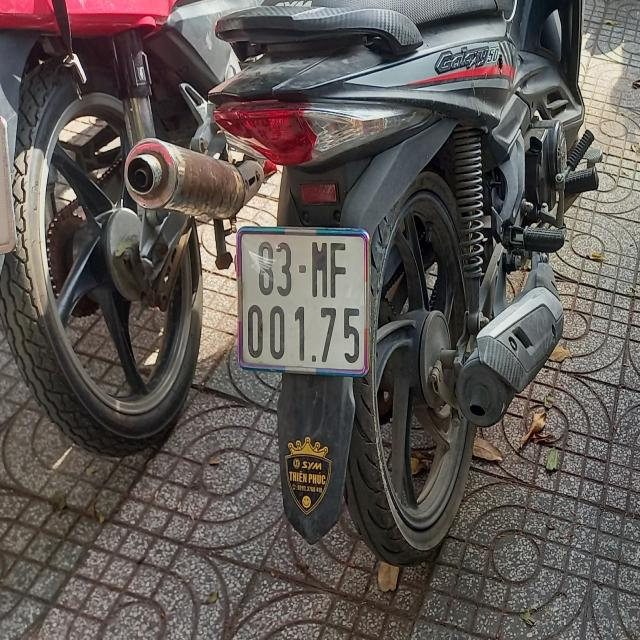0: (270, 305, 286, 360), (248, 305, 264, 359)
1: (294, 306, 306, 362)
3: (277, 242, 292, 298)
5: (342, 306, 361, 366)
7: (320, 306, 336, 364)
8: (256, 242, 274, 298)
F: (328, 241, 346, 299)
M: (309, 239, 327, 296)
